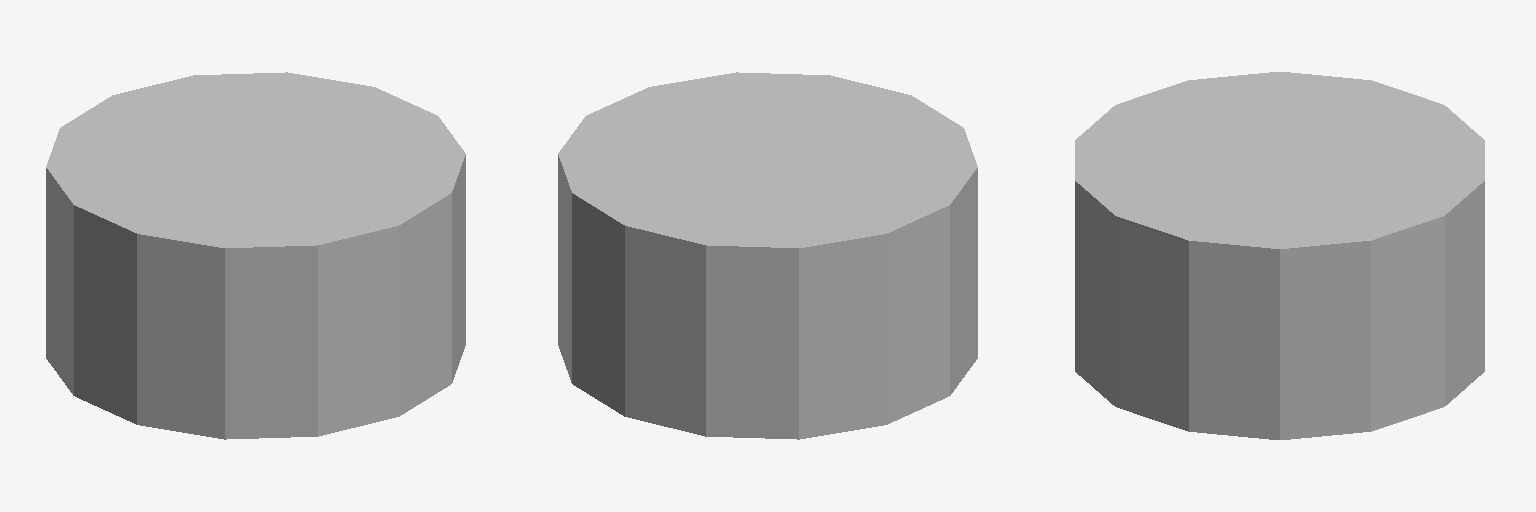
File: igs_forklift_wheel.obj
3 renders of one model, left to right at view 1: azimuth 30°, elevation 25°; view 2: azimuth 150°, elevation 25°; view 3: azimuth 270°, elevation 25°, orthographic.
Visible parts, largest first — view 1: forklift_wheel; view 2: forklift_wheel; view 3: forklift_wheel.
Part boxes in pixels (left/top/right/bottom): forklift_wheel: left=46, top=72, right=465, bottom=439; forklift_wheel: left=558, top=72, right=977, bottom=439; forklift_wheel: left=1075, top=72, right=1484, bottom=439.
Bounding box in the file's own units: 0.024 × 0.012 × 0.0234.